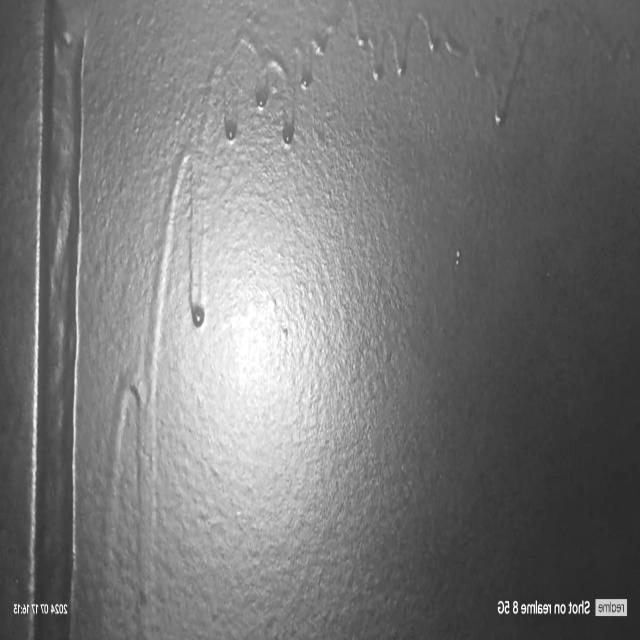paint drips: (96, 132, 215, 640), (216, 0, 537, 157)
